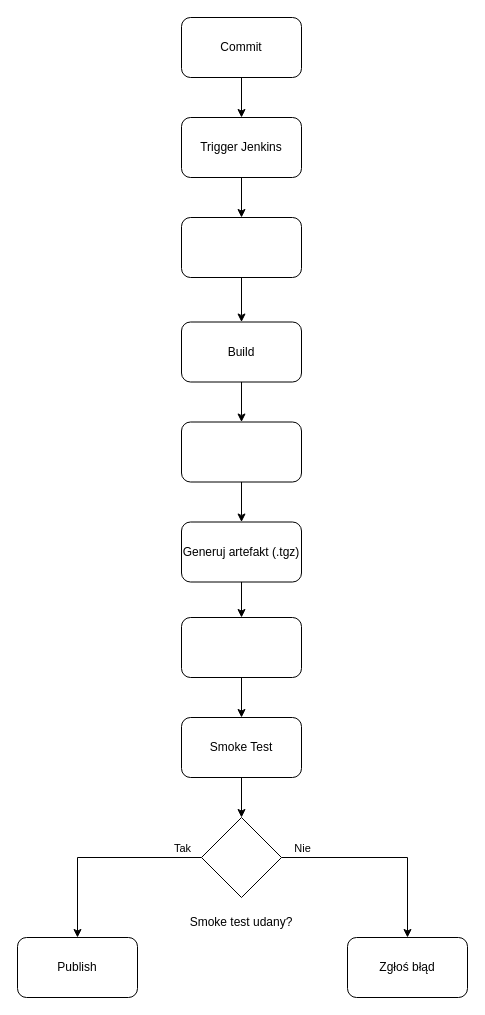
Some shapes in this 485 by 1015 pixel diagram are drawn without their labels. Each missing label, with the centre of its shape:
"Clone" goes at point (241, 247).
"Deploy" goes at point (241, 647).
"Test" goes at point (241, 451).
